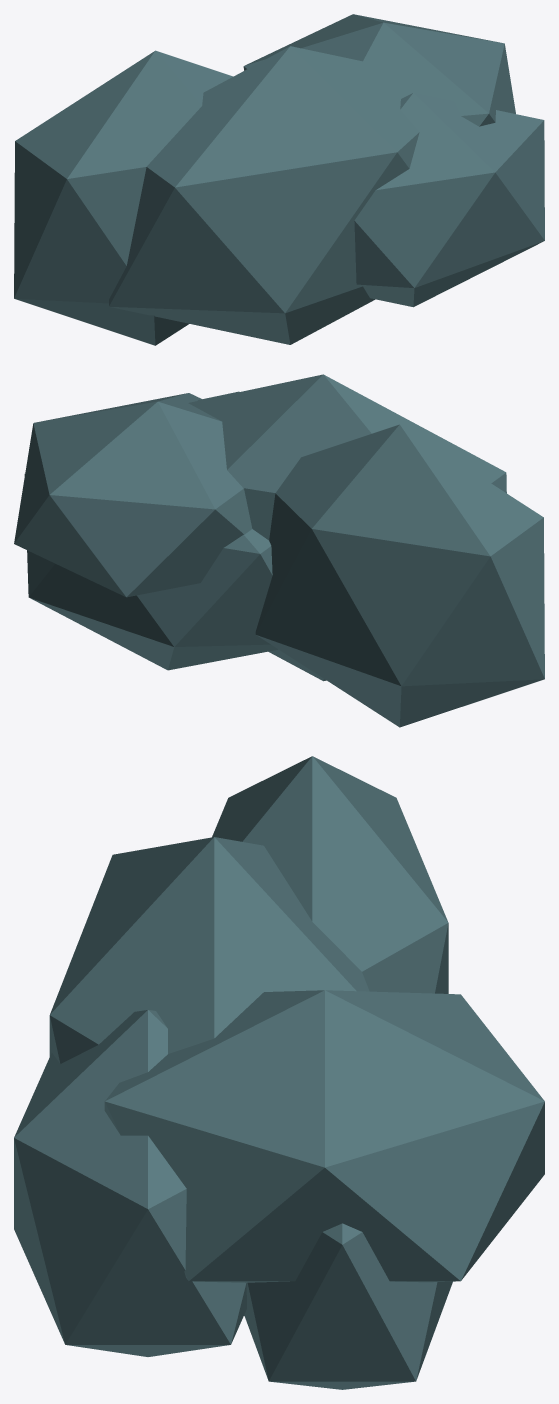
File: rock-a.glb
3 views of the same model, one above another, from view 1: azimuth 30°, elevation 25°; view 2: azimuth 150°, elevation 25°; view 3: azimuth 270°, elevation 25° (orthographic). The views are drawn at different scales.
Visible parts, largest first — view 1: rock-a / Rock | blue slate; view 2: rock-a / Rock | blue slate; view 3: rock-a / Rock | blue slate.
Boxes of the visible parts, bbox=[...] form: rock-a / Rock | blue slate: bbox=[14, 14, 544, 345]; rock-a / Rock | blue slate: bbox=[14, 374, 544, 727]; rock-a / Rock | blue slate: bbox=[14, 756, 544, 1389].
Size of the model in its own units: 4.17 by 2.39 by 2.38.
